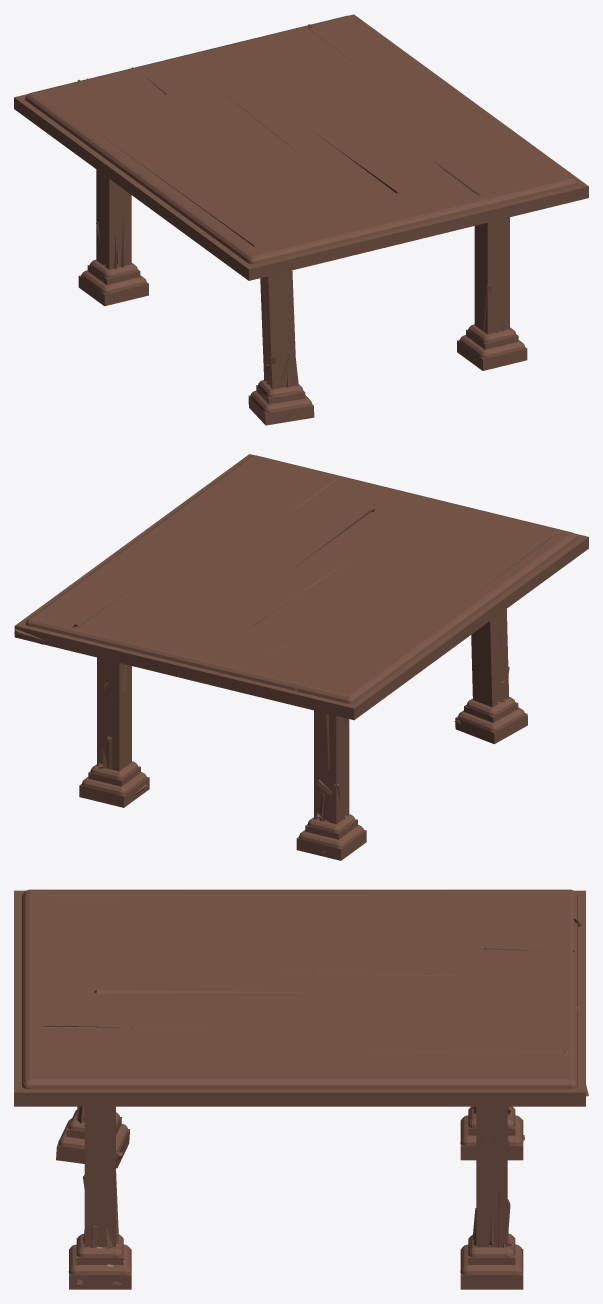
The model's file is Table.glb.
3 views of the same model, one above another, from view 1: azimuth 30°, elevation 25°; view 2: azimuth 150°, elevation 25°; view 3: azimuth 270°, elevation 25° (orthographic). The views are drawn at different scales.
Visible parts, largest first — view 1: group908856667, group96281244, group1160852094, group1253204904, group525750151, group1985004311, group1954466421, group1298719142; view 2: group908856667, group96281244, group525750151, group1347832258, group1253204904, group344195597, group1954466421, group1298719142; view 3: group908856667, group96281244, group1347832258, group1160852094, group1298719142, group1253204904, group525750151, group1985004311, group344195597, group1954466421, group1085611204, group205620451.
Part boxes in pixels (x1=…): group908856667: x1=32, y1=16, x2=570, y2=255; group96281244: x1=14, y1=14, x2=588, y2=280; group1160852094: x1=457, y1=217, x2=527, y2=370; group1253204904: x1=248, y1=270, x2=314, y2=425; group525750151: x1=78, y1=169, x2=148, y2=306; group1985004311: x1=254, y1=178, x2=574, y2=263; group1954466421: x1=27, y1=93, x2=253, y2=262; group1298719142: x1=350, y1=16, x2=573, y2=178; group908856667: x1=33, y1=455, x2=570, y2=695; group96281244: x1=14, y1=454, x2=588, y2=720; group525750151: x1=296, y1=710, x2=366, y2=860; group1347832258: x1=79, y1=657, x2=149, y2=807; group1253204904: x1=455, y1=609, x2=527, y2=744; group344195597: x1=30, y1=618, x2=349, y2=703; group1954466421: x1=350, y1=533, x2=576, y2=701; group1298719142: x1=30, y1=455, x2=253, y2=617; group908856667: x1=29, y1=890, x2=570, y2=1078; group96281244: x1=14, y1=890, x2=585, y2=1106; group1347832258: x1=460, y1=1106, x2=523, y2=1289; group1160852094: x1=68, y1=1106, x2=131, y2=1289; group1298719142: x1=30, y1=1079, x2=570, y2=1089; group1253204904: x1=56, y1=1106, x2=129, y2=1168; group525750151: x1=460, y1=1106, x2=523, y2=1160; group1985004311: x1=22, y1=890, x2=29, y2=1085; group344195597: x1=570, y1=890, x2=577, y2=1083; group1954466421: x1=30, y1=889, x2=569, y2=890; group1085611204: x1=51, y1=895, x2=442, y2=896; group205620451: x1=89, y1=990, x2=303, y2=993.
Size of the model in its own units: 0.6112 by 0.3319 by 0.734.
